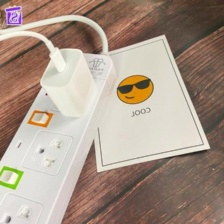three_eye_plug: (0, 43, 120, 224)
